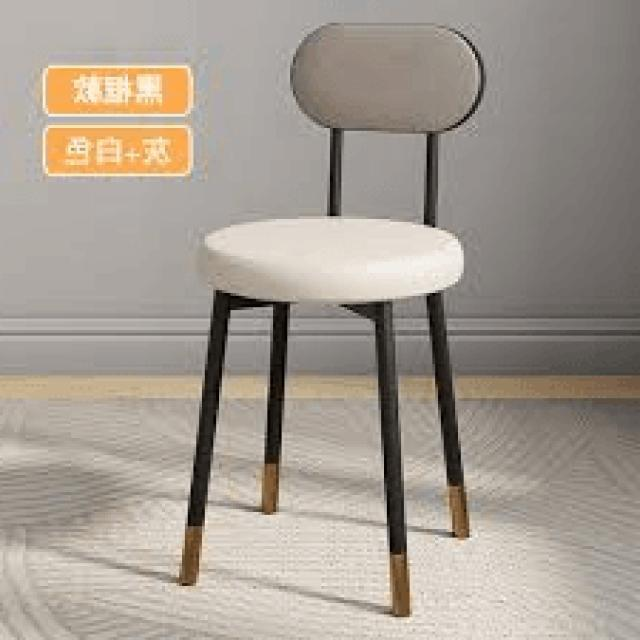chair: (175, 16, 490, 618), (210, 18, 494, 284)
